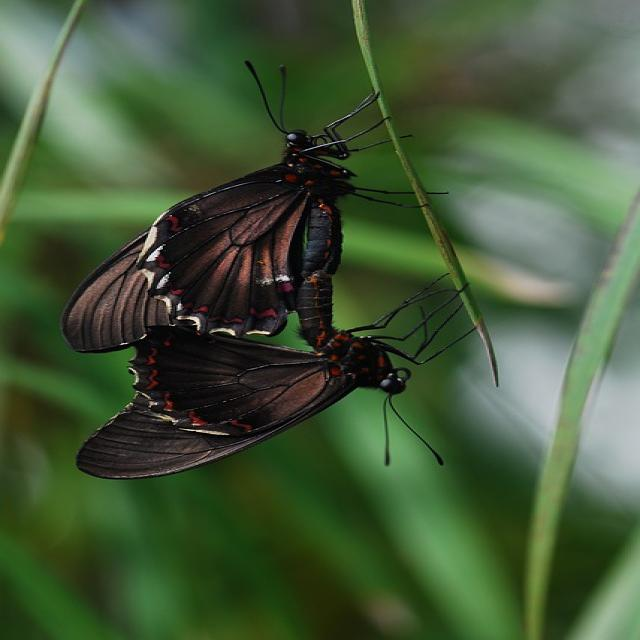butterfly: (61, 125, 356, 355), (78, 326, 405, 481)
